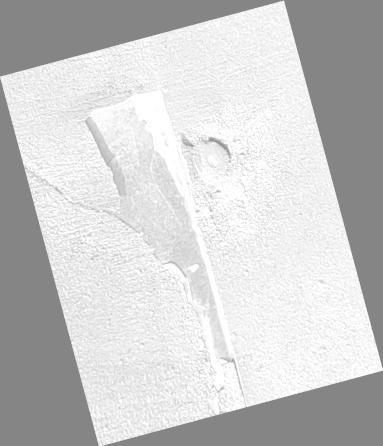paint-off: (1, 0, 382, 445)
